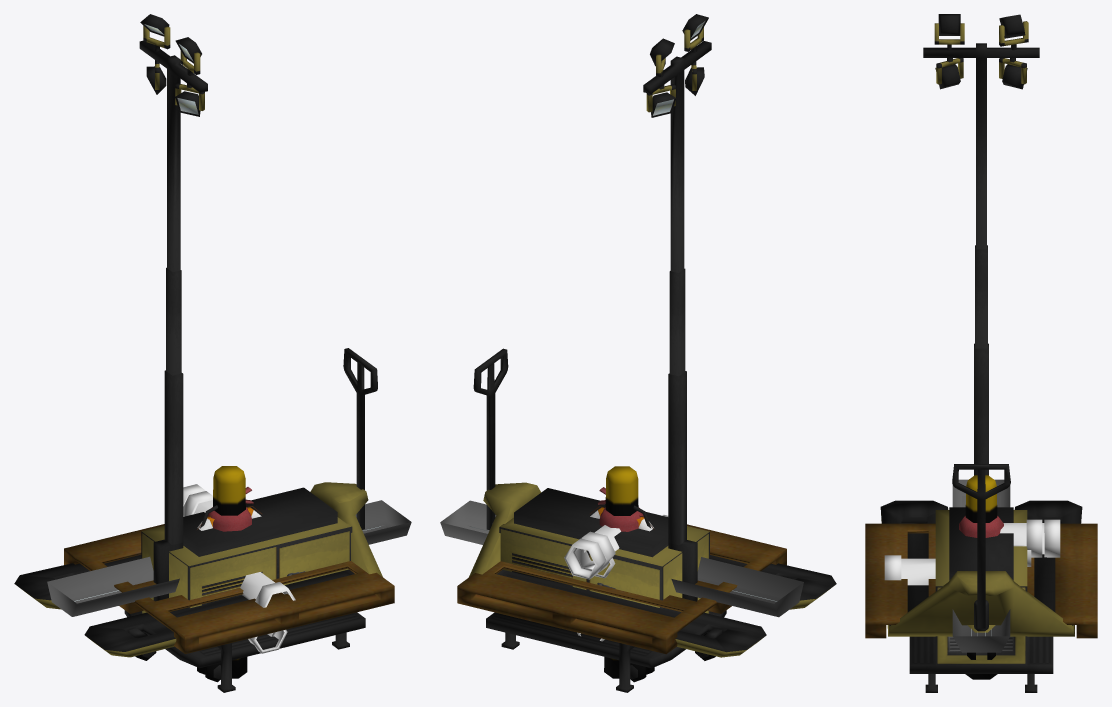
Rendered from funiture2.fbx.
3 views of the same model, side by side, from view 1: azimuth 30°, elevation 25°; view 2: azimuth 150°, elevation 25°; view 3: azimuth 270°, elevation 25° (orthographic). The views are drawn at different scales.
Visible parts, largest first — view 1: HolofoteComRodas, Pallet, PaleteiraManual, LampadaBastaoLow, PosteDeAviso, Cano5, Extintor; view 2: HolofoteComRodas, Pallet, PaleteiraManual, LampadaBastaoLow, PosteDeAviso, Cano2, Extintor, Cano5; view 3: HolofoteComRodas, PaleteiraManual, Pallet, Cano5, LampadaBastaoLow, PosteDeAviso, Cano2, Extintor.
Boxes of the visible parts, box(x1,y1,x2,y2) form: HolofoteComRodas: box(124, 14, 365, 692); Pallet: box(64, 524, 394, 653); PaleteiraManual: box(14, 348, 382, 660); LampadaBastaoLow: box(47, 500, 411, 616); PosteDeAviso: box(213, 466, 247, 678); Cano5: box(183, 491, 295, 607); Extintor: box(200, 487, 253, 531); HolofoteComRodas: box(486, 14, 726, 692); Pallet: box(457, 524, 786, 654); PaleteiraManual: box(469, 348, 836, 660); LampadaBastaoLow: box(440, 500, 803, 617); PosteDeAviso: box(604, 466, 638, 678); Cano2: box(564, 538, 618, 579); Extintor: box(598, 487, 651, 531); Cano5: box(577, 515, 668, 641); HolofoteComRodas: box(909, 14, 1053, 692); PaleteiraManual: box(880, 464, 1082, 659); Pallet: box(865, 523, 1097, 638); Cano5: box(884, 519, 1042, 585); LampadaBastaoLow: box(952, 479, 1010, 652); PosteDeAviso: box(965, 475, 997, 679); Cano2: box(1013, 519, 1060, 557); Extintor: box(959, 516, 1003, 537).
Bounding box in the file's own units: 156 × 290 × 96.6.
